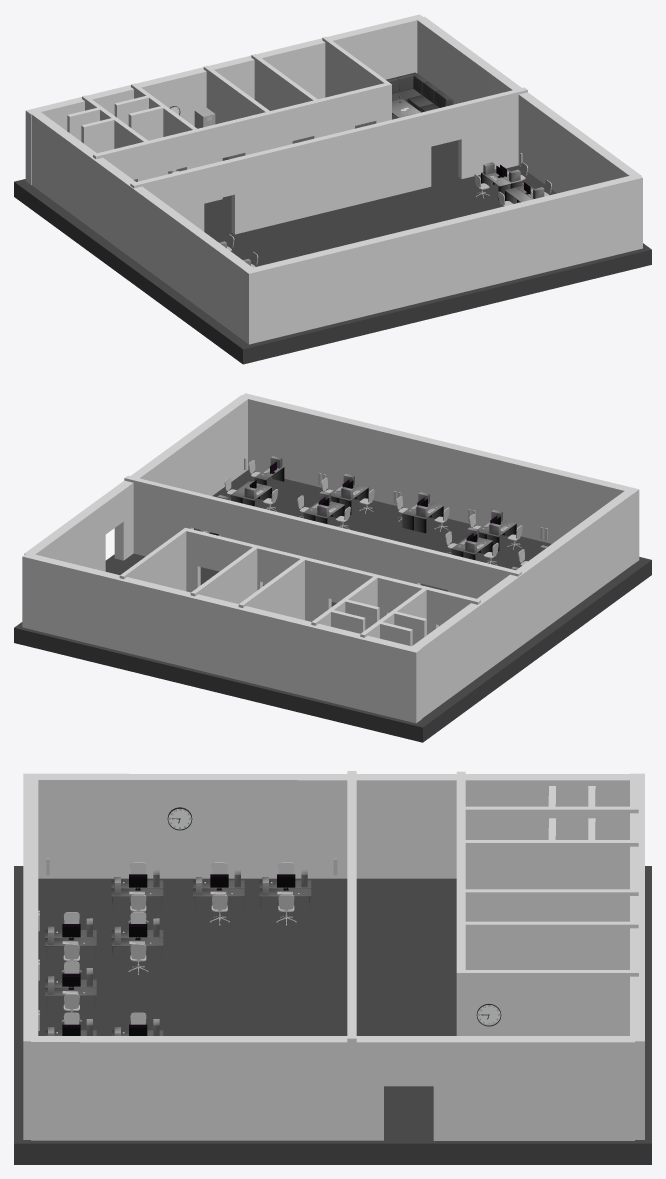
File: Nivel_4.fbx
The picture shows the model from 3 angles, top to bottom: view 1: azimuth 30°, elevation 25°; view 2: azimuth 150°, elevation 25°; view 3: azimuth 270°, elevation 25°; orthographic projection. The views are drawn at different scales.
Visible parts, largest first — view 1: Cube.002, Cube.004, Cube.003, Cube.001, Cube.005, Cube.006, Cube.985_Cube.1381_0, Cube.010, Cube.012, Cube.007, Cube.008, Cube.009 (+1 smaller); view 2: Cube.002, Cube.004, Cube.003, Cube.001, Cube.006, Cube.005, Cube.008, Cube.007, Cube.010, Cube.011, Cube.009, Cube.012; view 3: Cube.002, Cube.004, Cube.001, Cube.007, Cube.005, Cube.006, Cube.008, Cube.003.
Boxes of the visible parts, box(x1,y1,x2,y2) form: Cube.002: box(25, 14, 642, 344); Cube.004: box(14, 115, 651, 364); Cube.003: box(130, 87, 527, 234); Cube.001: box(93, 36, 391, 203); Cube.005: box(251, 54, 318, 143); Cube.006: box(203, 65, 271, 158); Cube.985_Cube.1381_0: box(386, 72, 453, 112); Cube.010: box(81, 118, 114, 153); Cube.012: box(128, 106, 163, 140); Cube.007: box(131, 83, 198, 171); Cube.008: box(82, 95, 149, 180); Cube.009: box(67, 107, 99, 141); Cube.002: box(22, 393, 639, 723); Cube.004: box(14, 470, 651, 742); Cube.003: box(124, 475, 521, 602); Cube.001: box(119, 527, 480, 634); Cube.006: box(238, 558, 305, 620); Cube.005: box(190, 546, 258, 603); Cube.008: box(360, 587, 427, 638); Cube.007: box(311, 575, 378, 626); Cube.010: box(394, 611, 426, 645); Cube.011: box(331, 610, 365, 633); Cube.009: box(379, 621, 412, 646); Cube.012: box(345, 599, 379, 629); Cube.002: box(23, 773, 644, 1140); Cube.004: box(14, 866, 651, 1164); Cube.001: box(456, 771, 638, 1035); Cube.007: box(461, 840, 638, 889); Cube.005: box(461, 921, 638, 969); Cube.006: box(461, 889, 638, 921); Cube.008: box(461, 806, 638, 839); Cube.003: box(347, 771, 356, 1042).
Size of the model in its own units: 130262 by 26980 by 126429.
